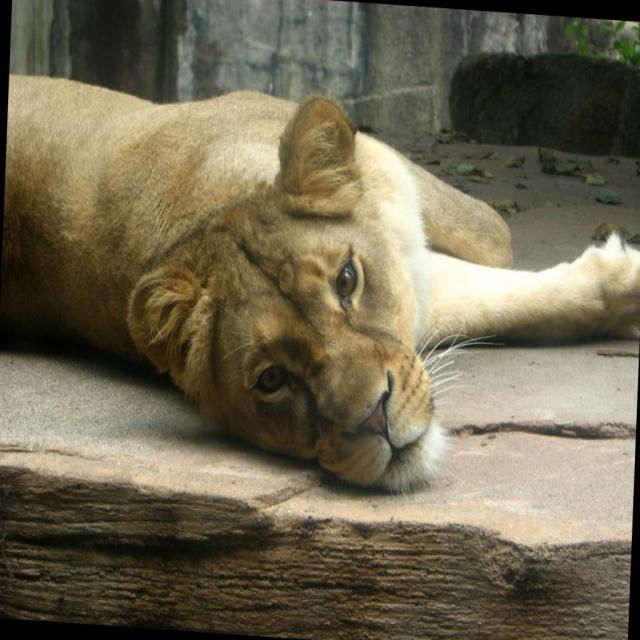Lion: (0, 67, 639, 524)
